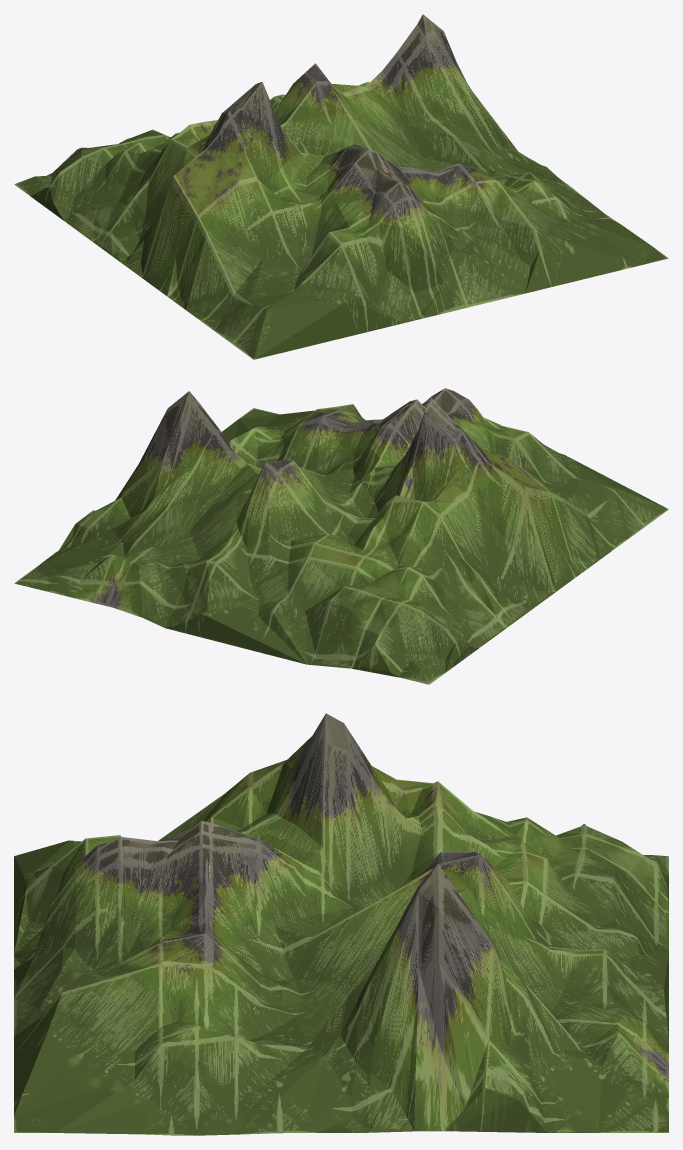
Rendered from bgmtns_Cartoon_Terrain_mtn06_TerrainMesh.fbx.
3 views of the same model, one above another, from view 1: azimuth 30°, elevation 25°; view 2: azimuth 150°, elevation 25°; view 3: azimuth 270°, elevation 25° (orthographic). The views are drawn at different scales.
Visible parts, largest first — view 1: Cartoon_Terrain_mtn06:TerrainMesh; view 2: Cartoon_Terrain_mtn06:TerrainMesh; view 3: Cartoon_Terrain_mtn06:TerrainMesh.
Boxes of the visible parts, x1,y1,x2,y2 form: Cartoon_Terrain_mtn06:TerrainMesh: [14, 14, 668, 359]; Cartoon_Terrain_mtn06:TerrainMesh: [14, 388, 668, 684]; Cartoon_Terrain_mtn06:TerrainMesh: [14, 713, 668, 1135].
Size of the model in its own units: 196 by 78.58 by 196.
Materials: 1 (1 with a texture image).
